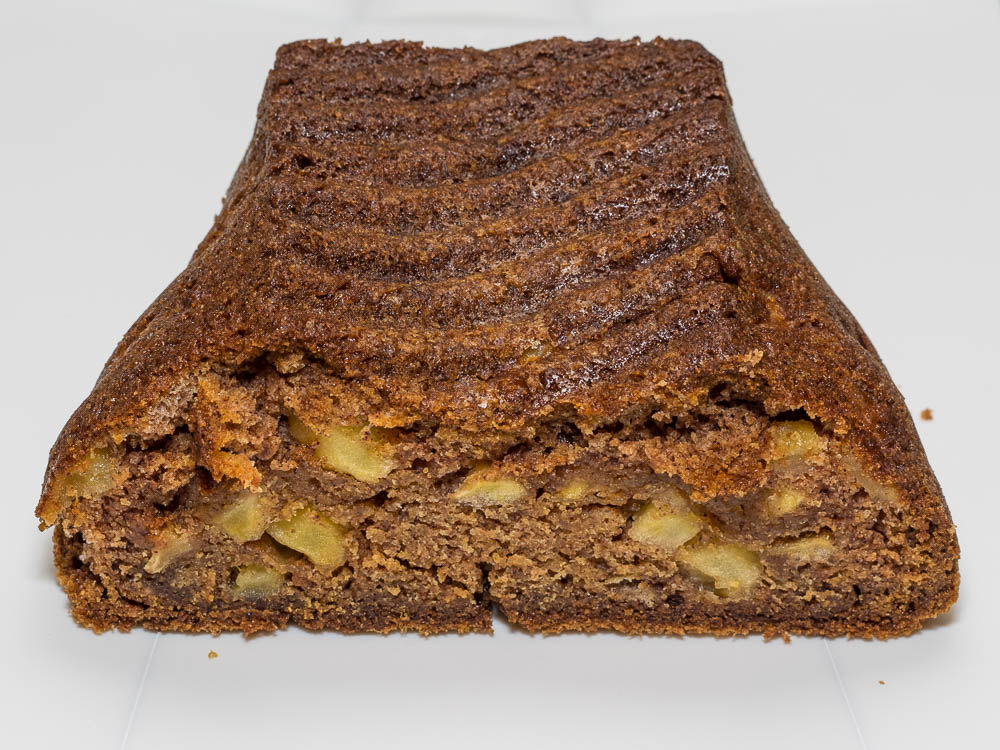slice of bread: (272, 50, 902, 617)
